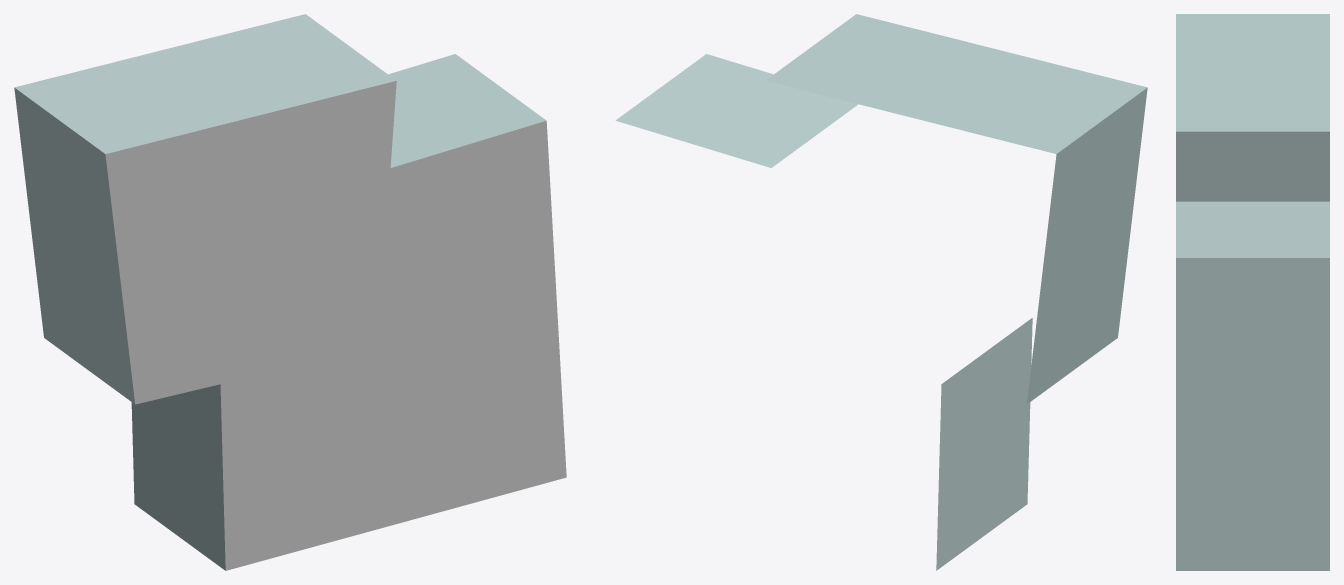
3 views of the same model, side by side, from view 1: azimuth 30°, elevation 25°; view 2: azimuth 150°, elevation 25°; view 3: azimuth 270°, elevation 25° (orthographic). The views are drawn at different scales.
Parts seen in each view (by area): view 1: 0_0_2_3_2_2_3; view 2: 0_0_2_3_2_2_3; view 3: 0_0_2_3_2_2_3.
Part boxes in pixels (left/top/right/bottom): 0_0_2_3_2_2_3: left=14, top=14, right=566, bottom=570; 0_0_2_3_2_2_3: left=615, top=14, right=1147, bottom=570; 0_0_2_3_2_2_3: left=1176, top=14, right=1329, bottom=570.
Size of the model in its own units: 8.76 by 8.14 by 3.
